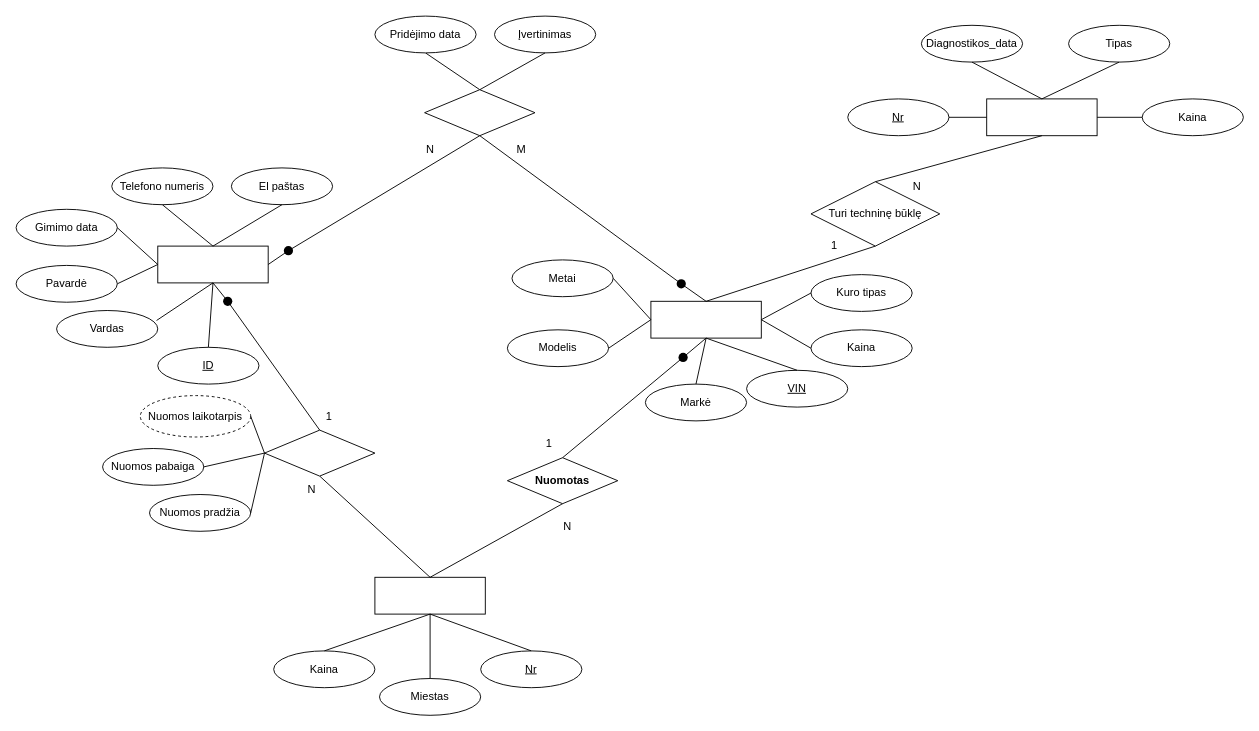
The diagram is 1259 pixels wide and 731 high, and some of its shapes have lost their labels. Here are the shapes that lost their labels. From the top down, the centre of each, then its label:
At (x=479, y=112): "Megstamas automobilis".
At (x=1041, y=117): "Diagnostika".
At (x=212, y=264): "Vartotojas".
At (x=705, y=319): "Automobilis".
At (x=319, y=452): "Nuomoja".
At (x=429, y=595): "Nuoma".
